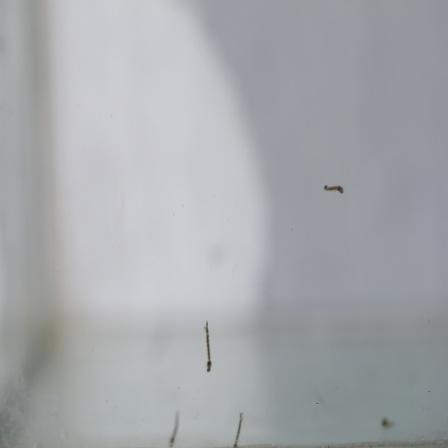Jentik-Nyamuk: (199, 318, 217, 376), (321, 179, 349, 198)
